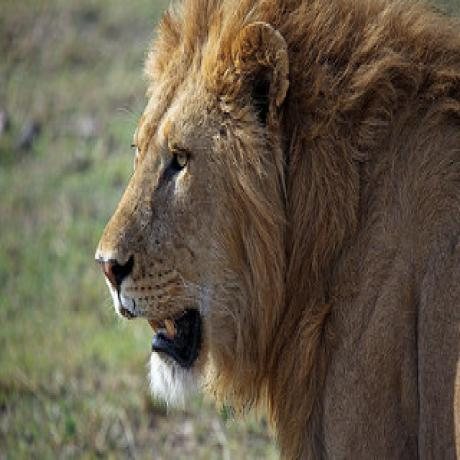Lion: (97, 0, 460, 460)
